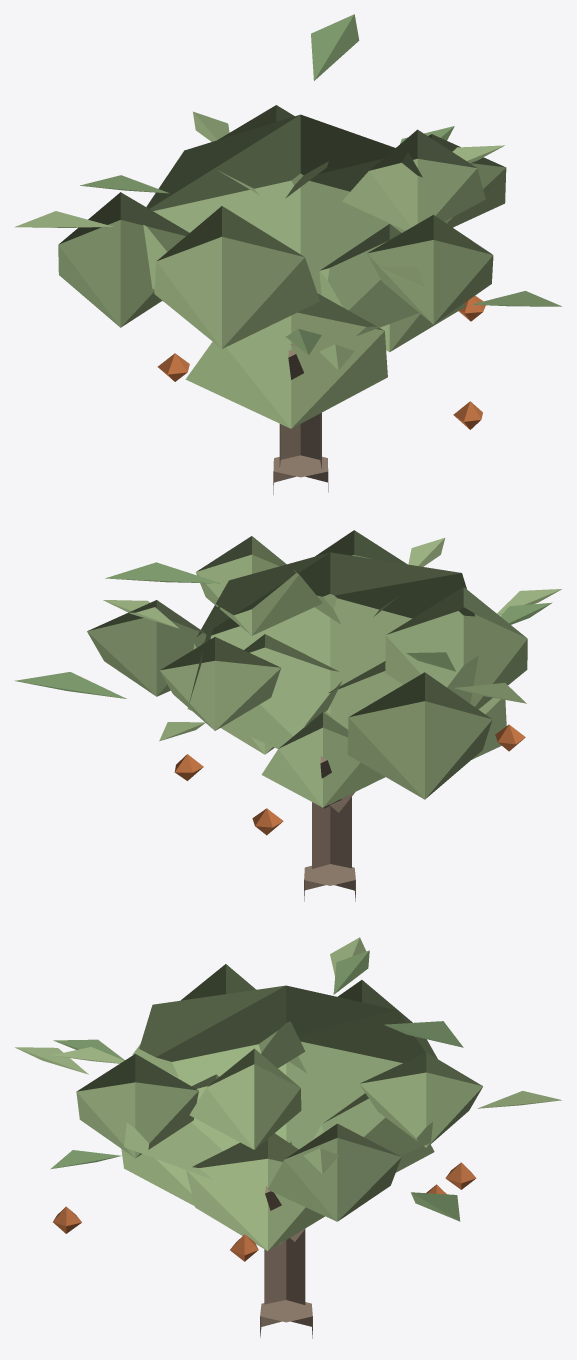
Rendered from shu.ganju@fruiting__summer.glb.
The picture shows the model from 3 angles, top to bottom: view 1: azimuth 30°, elevation 25°; view 2: azimuth 150°, elevation 25°; view 3: azimuth 270°, elevation 25°; orthographic projection. The views are drawn at different scales.
Visible parts, largest first — view 1: shu.ganju@fruiting__summer; view 2: shu.ganju@fruiting__summer; view 3: shu.ganju@fruiting__summer.
Part boxes in pixels (x1=…): shu.ganju@fruiting__summer: x1=14, y1=14, x2=562, y2=494; shu.ganju@fruiting__summer: x1=14, y1=530, x2=561, y2=901; shu.ganju@fruiting__summer: x1=15, y1=937, x2=562, y2=1338.
Bounding box in the file's own units: 7.1 × 5.12 × 7.18.
